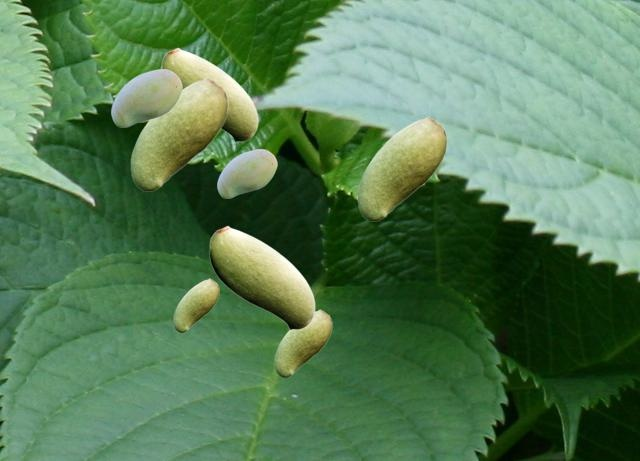green_mango: (130, 77, 227, 190), (209, 225, 314, 329), (357, 116, 446, 220), (161, 47, 257, 141), (111, 69, 181, 126), (274, 309, 331, 376), (217, 149, 276, 197), (173, 278, 218, 331)
